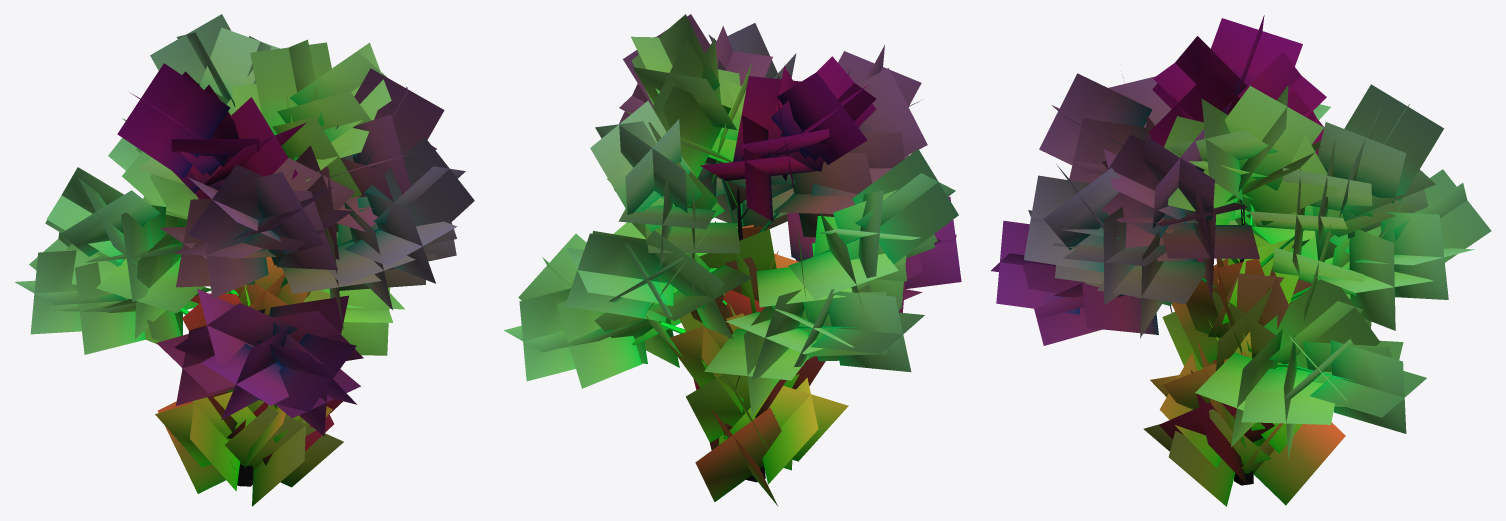
File: URP_P3_Tree_9_LOD_3.fbx
3 views of the same model, side by side, from view 1: azimuth 30°, elevation 25°; view 2: azimuth 150°, elevation 25°; view 3: azimuth 270°, elevation 25° (orthographic).
Visible parts, largest first — view 1: Tree_9_LOD_3; view 2: Tree_9_LOD_3; view 3: Tree_9_LOD_3.
Boxes of the visible parts, left/top/right/bottom form: Tree_9_LOD_3: left=15, top=14, right=474, bottom=506; Tree_9_LOD_3: left=504, top=14, right=961, bottom=505; Tree_9_LOD_3: left=991, top=15, right=1491, bottom=506.
Bounding box in the file's own units: 529 × 590 × 601.
